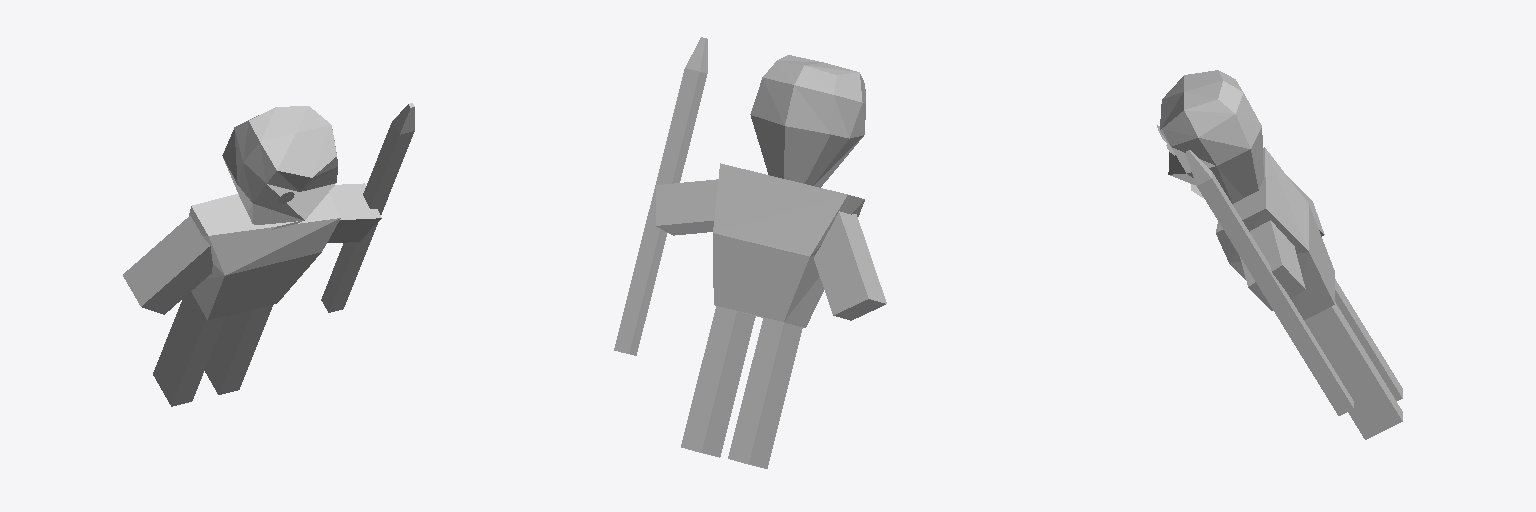
The model's file is spearman1d.obj.
3 views of the same model, side by side, from view 1: azimuth 30°, elevation 25°; view 2: azimuth 150°, elevation 25°; view 3: azimuth 270°, elevation 25° (orthographic).
Parts seen in each view (by area): view 1: Cube.001, Cube, Cube.003, Cube.004, Cube.007, Cube.005, Cube.002; view 2: Cube.001, Cube, Cube.007, Cube.004, Cube.005, Cube.003, Cube.002; view 3: Cube, Cube.001, Cube.007, Cube.005, Cube.002, Cube.004.
Boxes of the visible parts, x1=… form: Cube.001: x1=189, y1=194, x2=340, y2=319; Cube: x1=222, y1=106, x2=337, y2=224; Cube.003: x1=123, y1=215, x2=212, y2=314; Cube.004: x1=153, y1=292, x2=225, y2=406; Cube.007: x1=321, y1=103, x2=414, y2=312; Cube.005: x1=205, y1=304, x2=273, y2=394; Cube.002: x1=327, y1=183, x2=381, y2=242; Cube.001: x1=713, y1=163, x2=864, y2=327; Cube: x1=750, y1=55, x2=865, y2=187; Cube.007: x1=614, y1=37, x2=707, y2=355; Cube.004: x1=728, y1=317, x2=802, y2=468; Cube.005: x1=681, y1=306, x2=755, y2=457; Cube.003: x1=814, y1=211, x2=886, y2=320; Cube.002: x1=656, y1=179, x2=717, y2=235; Cube: x1=1160, y1=70, x2=1263, y2=203; Cube.001: x1=1216, y1=147, x2=1334, y2=319; Cube.007: x1=1186, y1=150, x2=1353, y2=415; Cube.005: x1=1304, y1=302, x2=1402, y2=439; Cube.002: x1=1240, y1=220, x2=1305, y2=310; Cube.004: x1=1335, y1=279, x2=1402, y2=400.
Size of the model in its own units: 3.88 by 5.44 by 3.52.